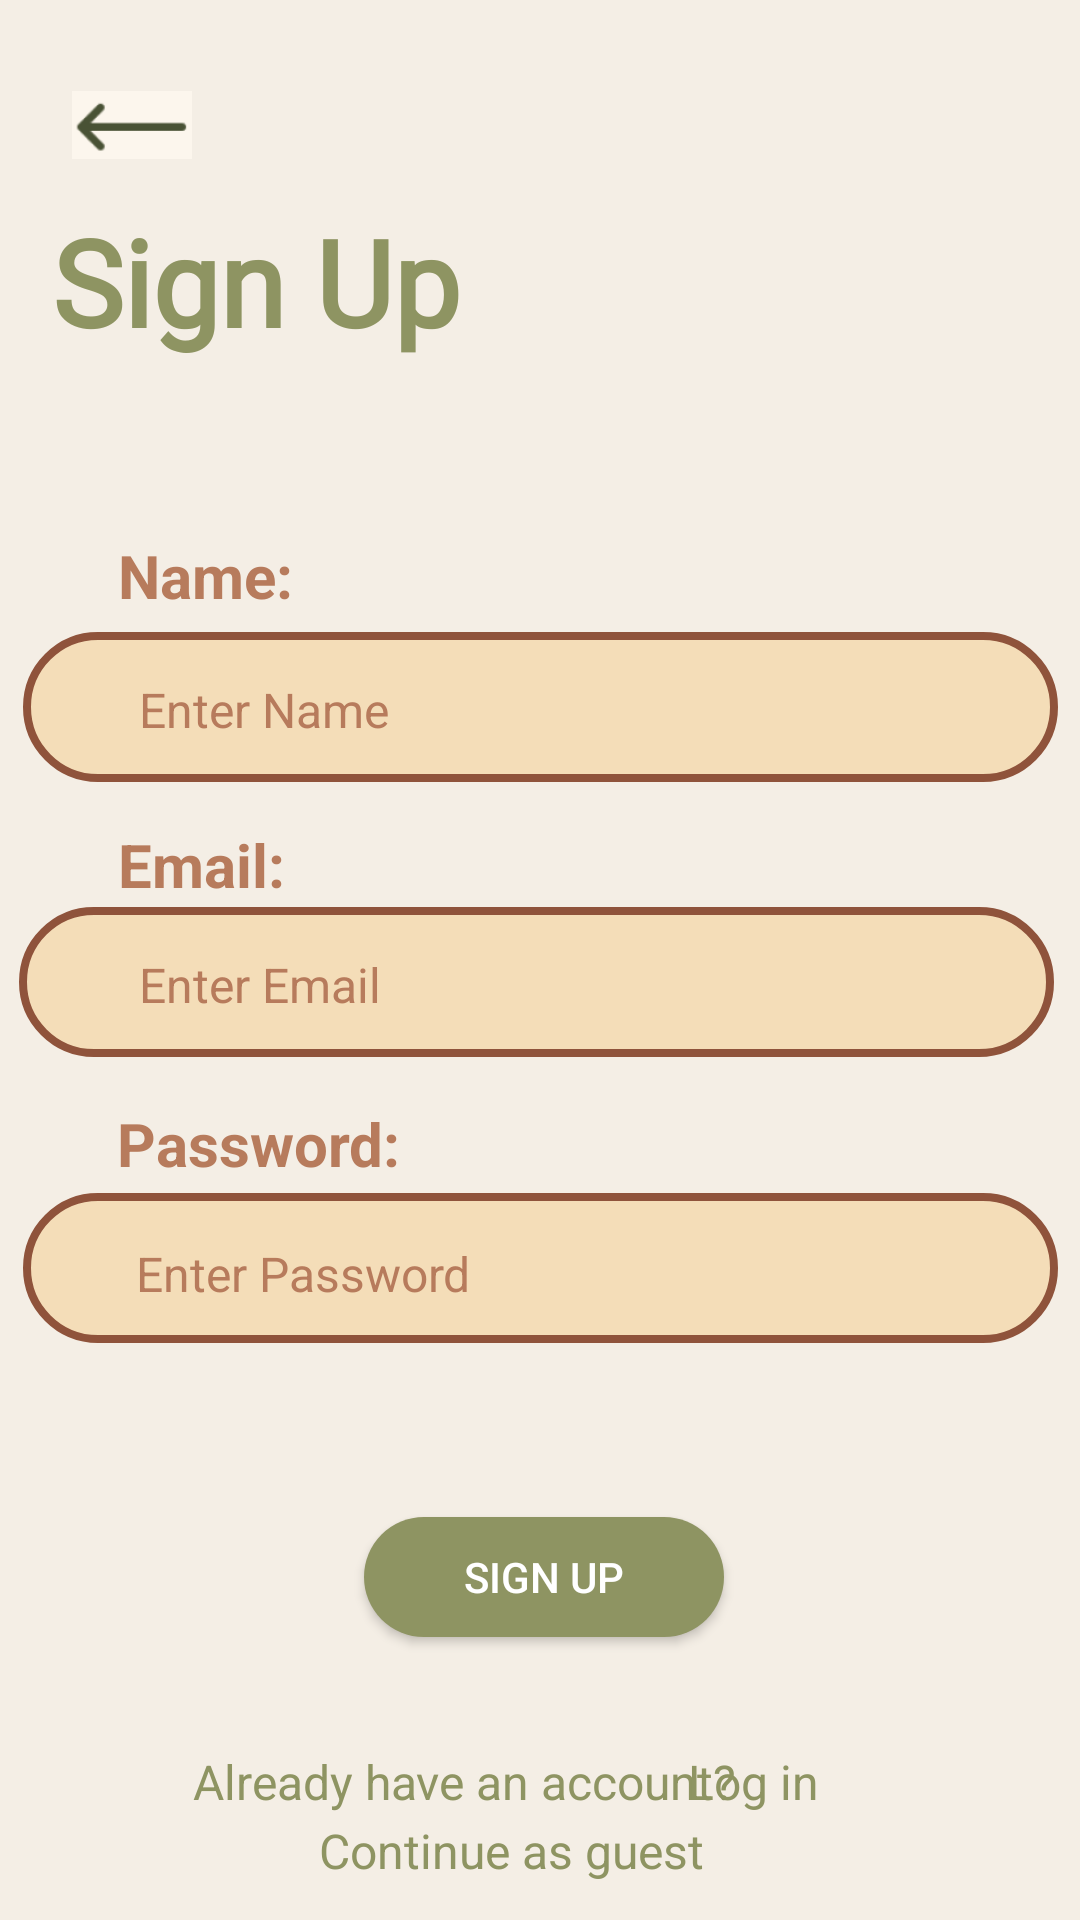

Point at icon controls on the screen. Image size 1080x1920, points as point (x, y).
arrowback: point (131, 127)
